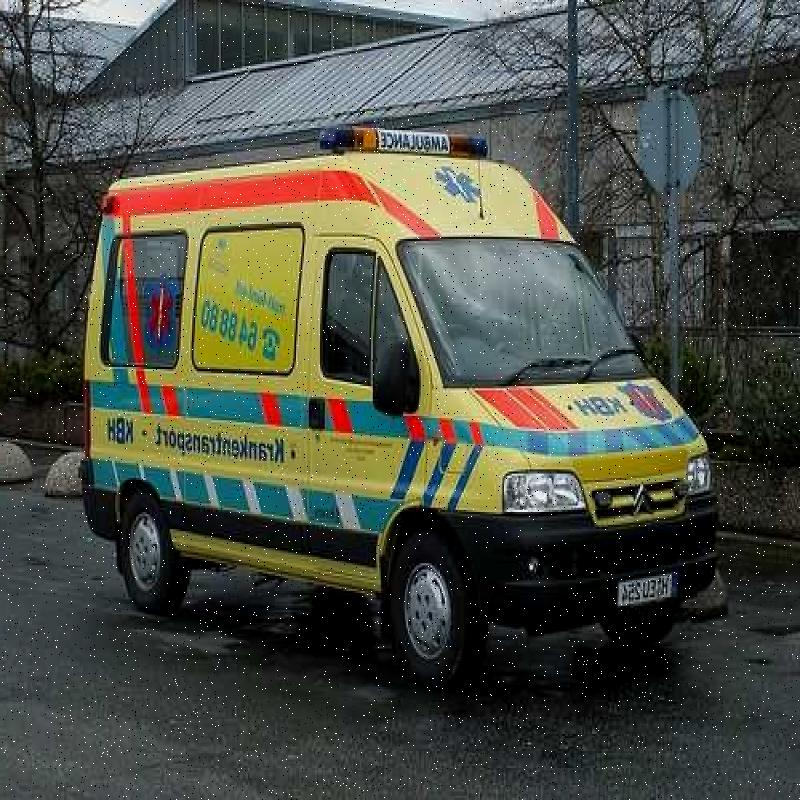AmbulanceSiren: (306, 123, 496, 167)
